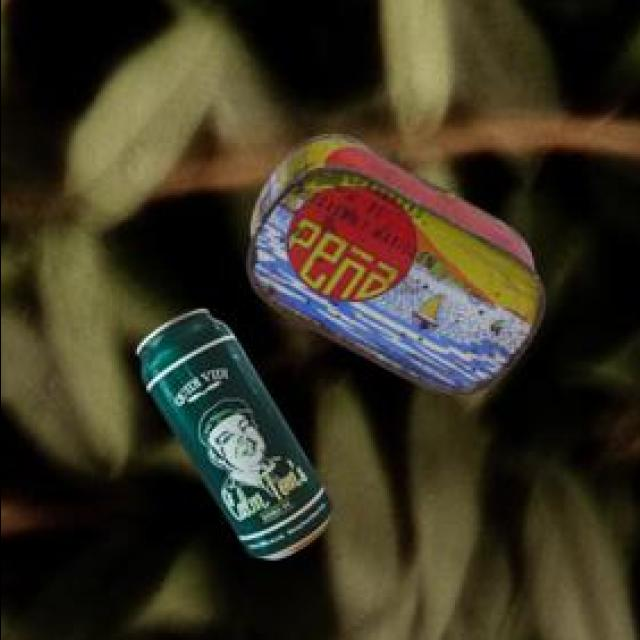logam: (249, 130, 548, 391), (140, 305, 335, 555)
